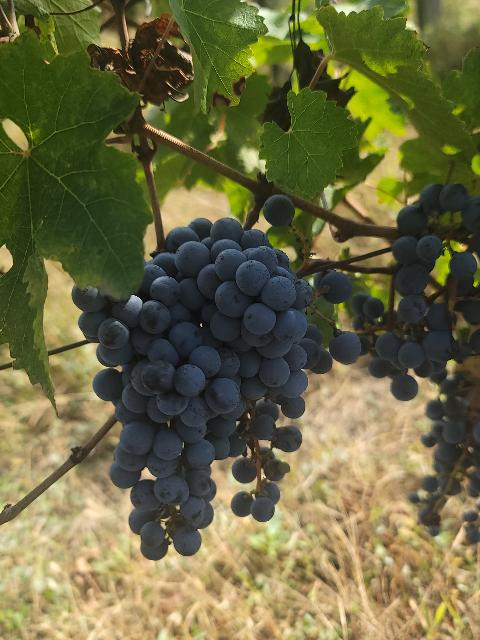grapes: (152, 218, 351, 521), (72, 252, 245, 560), (350, 292, 454, 401)
